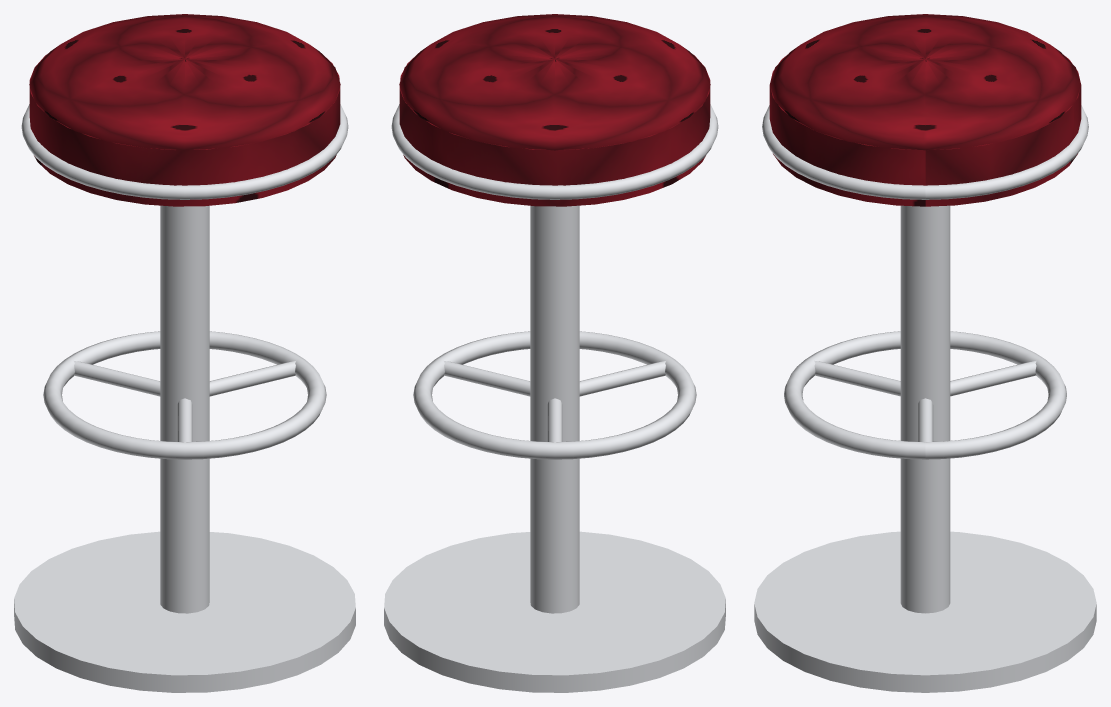
File: taburete.glb
The picture shows the model from 3 angles, left to right: view 1: azimuth 30°, elevation 25°; view 2: azimuth 150°, elevation 25°; view 3: azimuth 270°, elevation 25°; orthographic projection.
Parts seen in each view (by area): view 1: taburete; view 2: taburete; view 3: taburete.
Boxes of the visible parts, <box> form: taburete: <box>14,14,355,692</box>; taburete: <box>384,14,725,692</box>; taburete: <box>754,14,1096,692</box>.
Bounding box in the file's own units: 0.44 × 0.796 × 0.44.
Materials: 2 (1 with a texture image).
